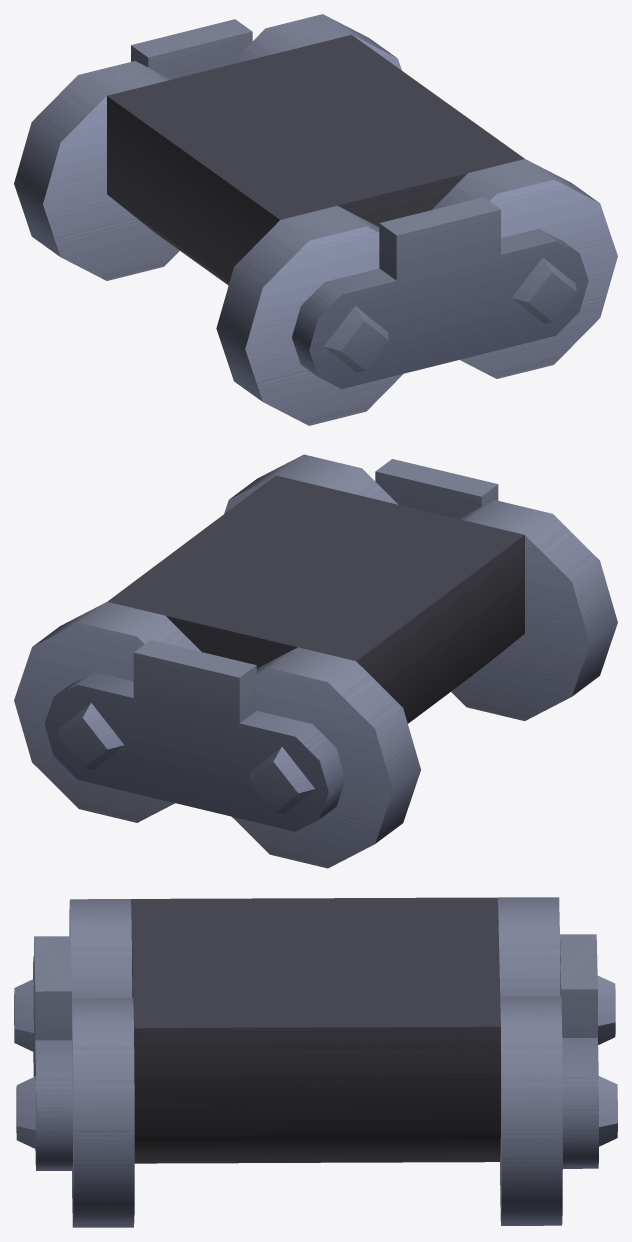
The model's file is wheels-back.004_lev2.glb.
3 views of the same model, one above another, from view 1: azimuth 30°, elevation 25°; view 2: azimuth 150°, elevation 25°; view 3: azimuth 270°, elevation 25° (orthographic). The views are drawn at different scales.
Parts seen in each view (by area): view 1: wheels-back.004_lev2; view 2: wheels-back.004_lev2; view 3: wheels-back.004_lev2.
Boxes of the visible parts, box(x1,y1,x2,y2) form: wheels-back.004_lev2: box(14, 14, 617, 425); wheels-back.004_lev2: box(14, 454, 617, 868); wheels-back.004_lev2: box(14, 897, 617, 1227).
Size of the model in its own units: 0.7689 by 0.3595 by 0.9876.
1 material, 1 textured.
